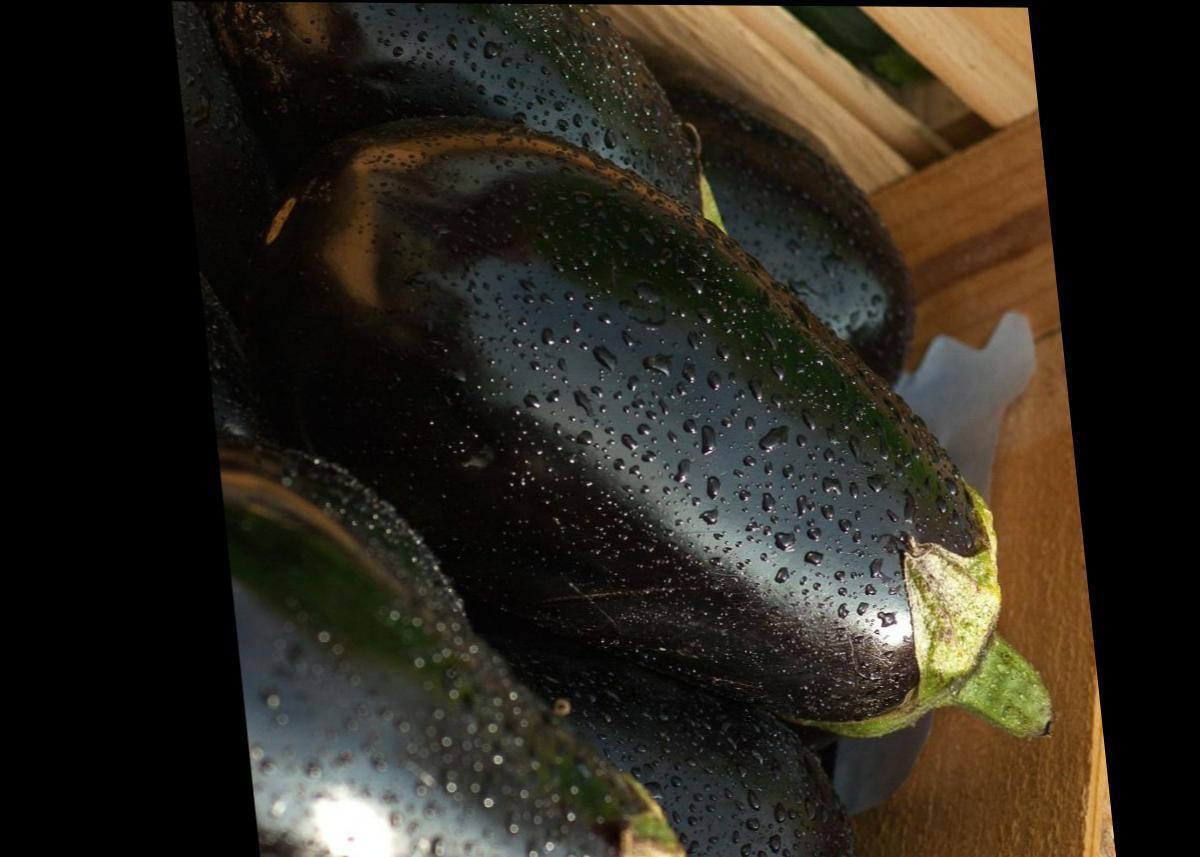eggplant: (214, 130, 1007, 856)
